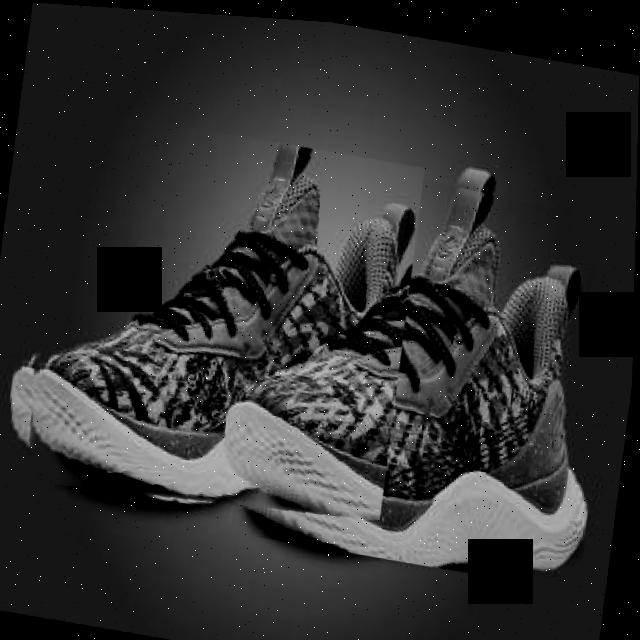shoe: (196, 133, 629, 586), (4, 101, 426, 537)
